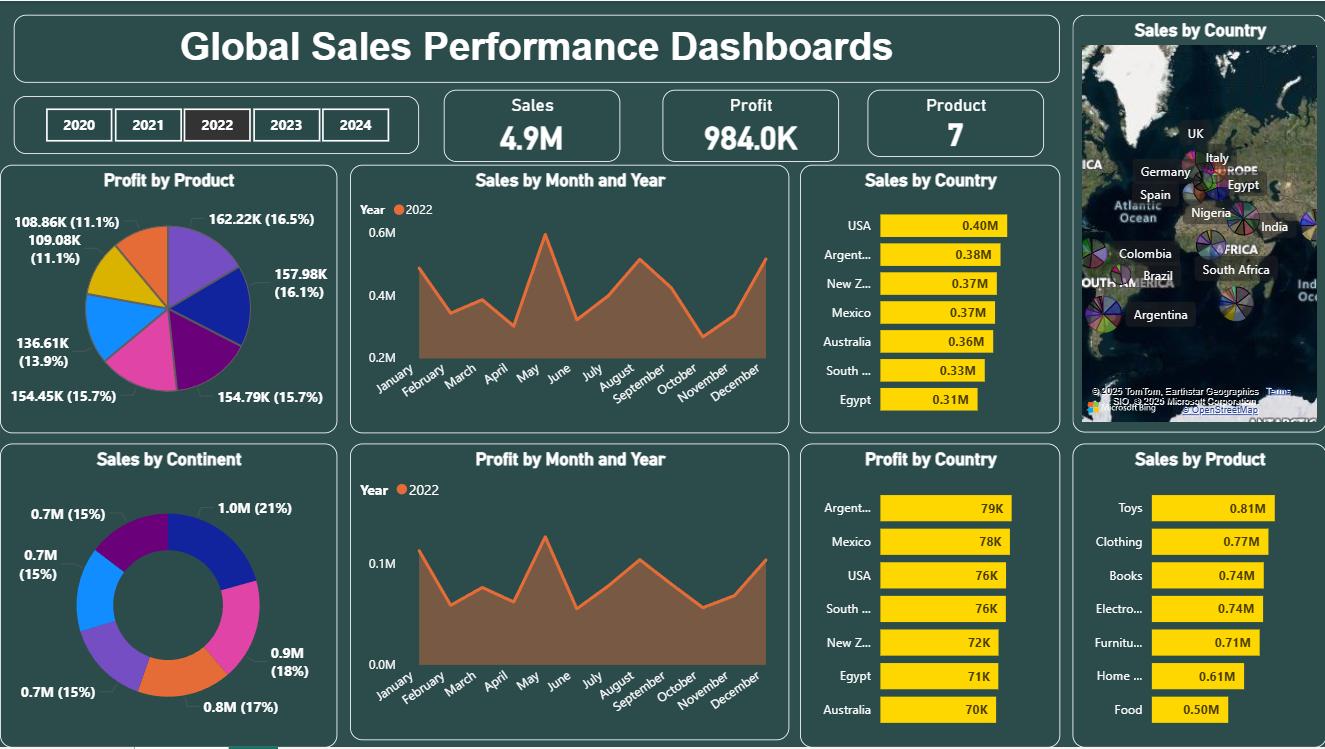

This screenshot's page, from the dashboard's own definition file:
{"tool":"powerbi","page":{"name":"Page 1","canvas":[1280,720],"ordinal":0},"visuals":[{"type":"clusteredBarChart","title":"Sales by Product","fields":{"Y":["Sum(global_sales_data.Sales)"],"Category":["global_sales_data.Product"]},"box":[1034.7,426.8,245.6,293.7],"z":0},{"type":"map","title":"Sales by Country","fields":{"Category":["global_sales_data.Country","global_sales_data.Continent"],"Size":["Sum(global_sales_data.Sales)"],"Series":["global_sales_data.Profit"]},"box":[1034.7,13.7,245.6,403.4],"z":1000},{"type":"clusteredBarChart","title":"Profit by Country","fields":{"Y":["Sum(global_sales_data.Profit)"],"Category":["global_sales_data.Country"]},"box":[772.6,426.8,251.1,293.7],"z":2000},{"type":"donutChart","title":"Sales by Continent","fields":{"Category":["global_sales_data.Continent"],"Y":["Sum(global_sales_data.Sales)"]},"box":[0,426.8,325.2,293.7],"z":3000},{"type":"stackedAreaChart","title":" Sales by Month and Year","fields":{"Y":["Sum(global_sales_data.Sales)"],"Category":["global_sales_data.Date.Variation.Date Hierarchy.Month"],"Series":["global_sales_data.Date.Variation.Date Hierarchy.Year"]},"box":[337.6,157.8,424,259.3],"z":4000},{"type":"stackedAreaChart","title":"Profit by Month and Year","fields":{"Category":["global_sales_data.Date.Variation.Date Hierarchy.Month"],"Series":["global_sales_data.Date.Variation.Date Hierarchy.Year"],"Y":["Sum(global_sales_data.Profit)"]},"box":[337.6,426.8,424,286.8],"z":5000},{"type":"pieChart","title":"Profit by Product","fields":{"Category":["global_sales_data.Product"],"Y":["Sum(global_sales_data.Profit)"]},"box":[0,157.8,325.2,259.3],"z":6000},{"type":"clusteredBarChart","title":"Sales by Country","fields":{"Y":["Sum(global_sales_data.Sales)"],"Category":["global_sales_data.Country"]},"box":[772.6,157.8,251.1,259.3],"z":7000},{"type":"textbox","box":[13.7,13.7,1010,65.9],"z":8000},{"type":"slicer","fields":{"Values":["global_sales_data.Date.Variation.Date Hierarchy.Year"]},"box":[13.7,91.9,391.1,56.3],"z":9000},{"type":"card","title":"Sales","fields":{"Values":["Sum(global_sales_data.Sales)"]},"box":[428.1,85.1,170.2,70],"z":10000},{"type":"card","title":"Profit","fields":{"Values":["Sum(global_sales_data.Profit)"]},"box":[639.5,85.1,170.2,70],"z":11000},{"type":"card","title":"Product","fields":{"Values":["Count(global_sales_data.Product)"]},"box":[837.1,85.1,170.2,64.5],"z":12000}]}

Visuals, with their boxes in screenshot pixels (x1, y1, x2, y2), scaled from the page's 1280x720 canvas onto the 1325x749 screenshot:
"Sales by Product" clusteredBarChart: 1071/444/1324/748
"Sales by Country" map: 1071/14/1324/434
"Profit by Country" clusteredBarChart: 800/444/1060/748
"Sales by Continent" donutChart: 0/444/337/748
" Sales by Month and Year" stackedAreaChart: 349/164/788/434
"Profit by Month and Year" stackedAreaChart: 349/444/788/742
"Profit by Product" pieChart: 0/164/337/434
"Sales by Country" clusteredBarChart: 800/164/1060/434
textbox: 14/14/1060/83
slicer - global_sales_data.Date.Variation.Date Hierarchy.Year: 14/96/419/154
"Sales" card: 443/89/619/161
"Profit" card: 662/89/838/161
"Product" card: 867/89/1043/156
